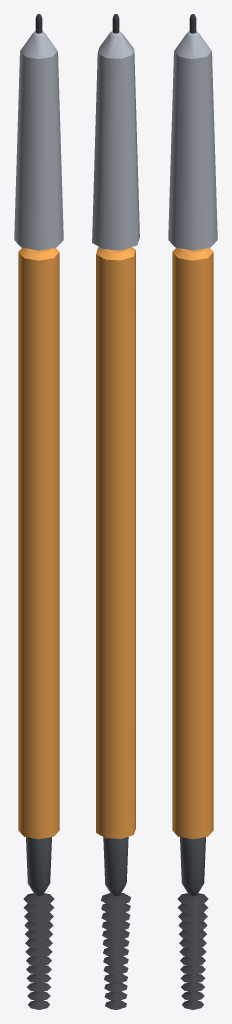
File: makeup_brush_spoole_maskara.glb
3 views of the same model, side by side, from view 1: azimuth 90°, elevation 25°; view 2: azimuth 150°, elevation 25°; view 3: azimuth 270°, elevation 25° (orthographic).
Visible parts, largest first — view 1: brush_spoole_maskara.001; view 2: brush_spoole_maskara.001; view 3: brush_spoole_maskara.001.
Part boxes in pixels (x1,y1,x2,y2): brush_spoole_maskara.001: (14,14,63,1009); brush_spoole_maskara.001: (92,14,139,1009); brush_spoole_maskara.001: (168,14,217,1009).
Bounding box in the file's own units: 1.41 × 31.27 × 1.41.
Materials: 1 (1 with a texture image).
